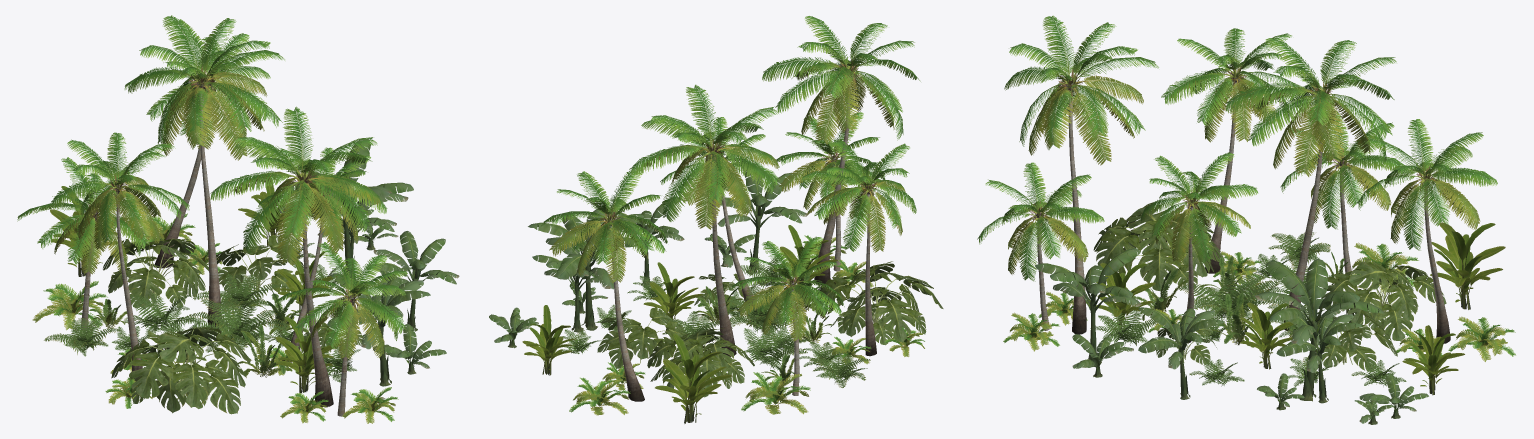
The model's file is zonadinosaurios palmas .fbx.
3 renders of one model, left to right at view 1: azimuth 30°, elevation 25°; view 2: azimuth 150°, elevation 25°; view 3: azimuth 270°, elevation 25°, orthographic. The views are drawn at different scales.
Visible parts, largest first — view 1: Object_18; view 2: Object_18; view 3: Object_18.
Part boxes in pixels (x1=…): Object_18: x1=17, y1=15, x2=459, y2=423; Object_18: x1=489, y1=16, x2=943, y2=423; Object_18: x1=977, y1=15, x2=1515, y2=424.
Size of the model in its own units: 1325 by 916 by 1578.
7 materials, 7 textured.
